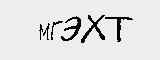Г: (48, 18, 64, 46)
М: (36, 19, 49, 44)
Т: (103, 13, 134, 44)
Х: (82, 12, 108, 44)
Э: (59, 13, 81, 44)
